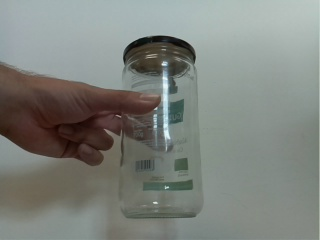pote cristal: (116, 33, 209, 224)
